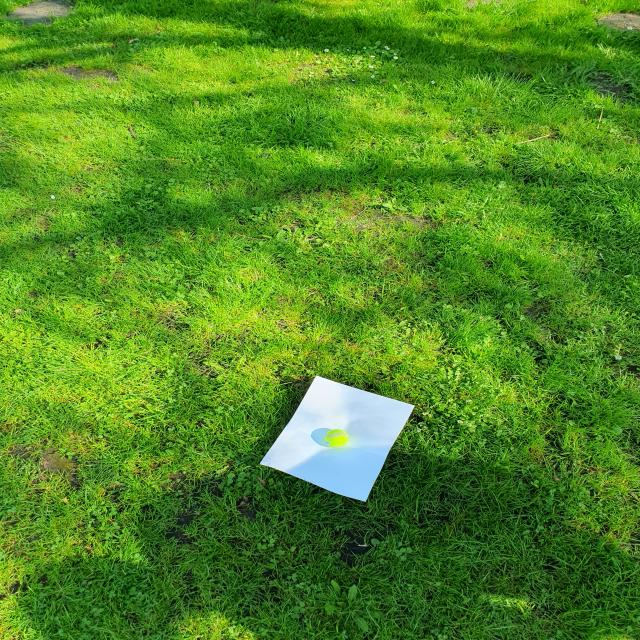green: (324, 429, 350, 448)
